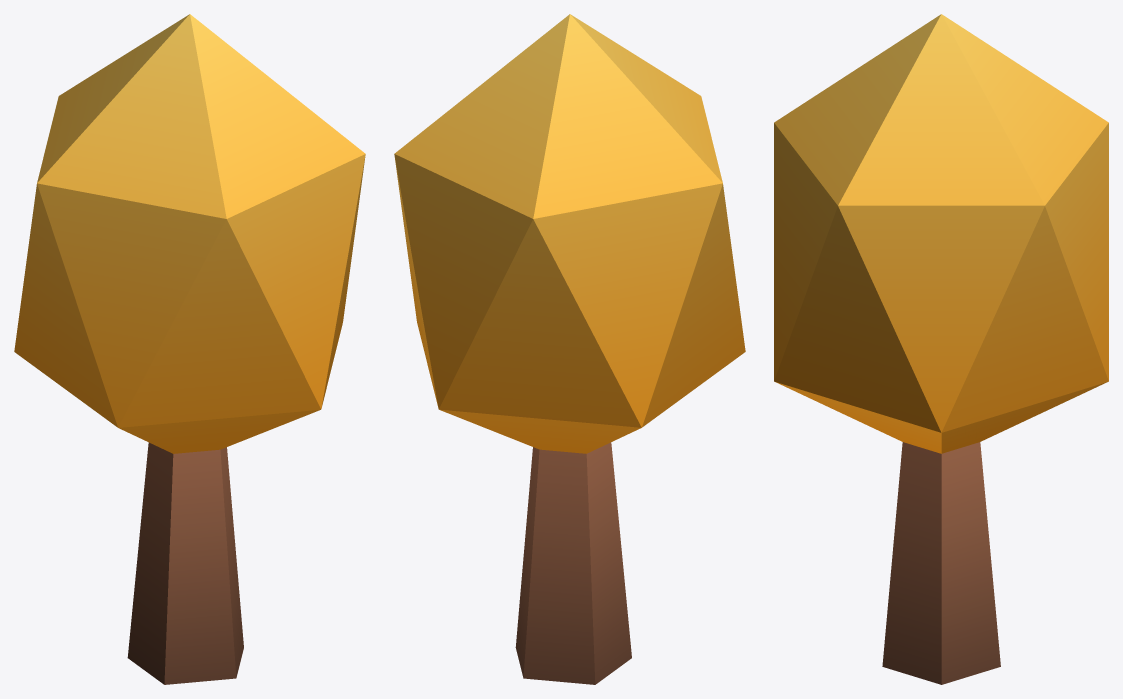
The model's file is autumn tree.fbx.
3 views of the same model, side by side, from view 1: azimuth 30°, elevation 25°; view 2: azimuth 150°, elevation 25°; view 3: azimuth 270°, elevation 25° (orthographic).
Visible parts, largest first — view 1: autumn tree; view 2: autumn tree; view 3: autumn tree.
Boxes of the visible parts, left/top/right/bottom form: autumn tree: left=14, top=14, right=365, bottom=684; autumn tree: left=394, top=14, right=745, bottom=684; autumn tree: left=774, top=14, right=1108, bottom=684.
Bounding box in the file's own units: 217 × 438 × 206.
